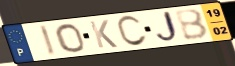B: (173, 8, 211, 42)
C: (115, 14, 149, 48)
I: (37, 24, 58, 58)
J: (154, 10, 182, 45)
K: (87, 19, 120, 49)
O: (54, 23, 87, 54)
